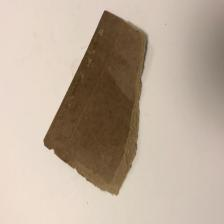paper: (38, 5, 156, 195)
